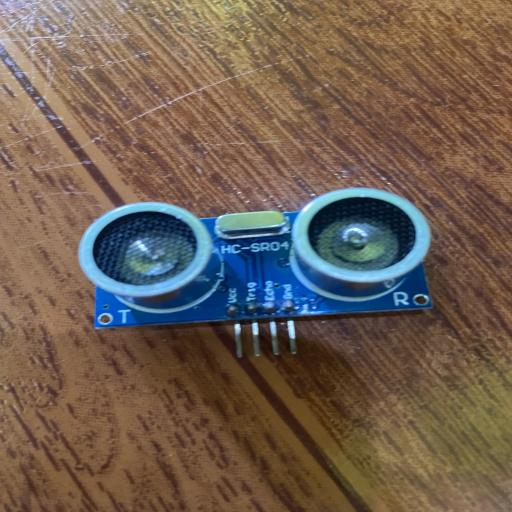Ultrasonic Sensor: (76, 186, 436, 358)
